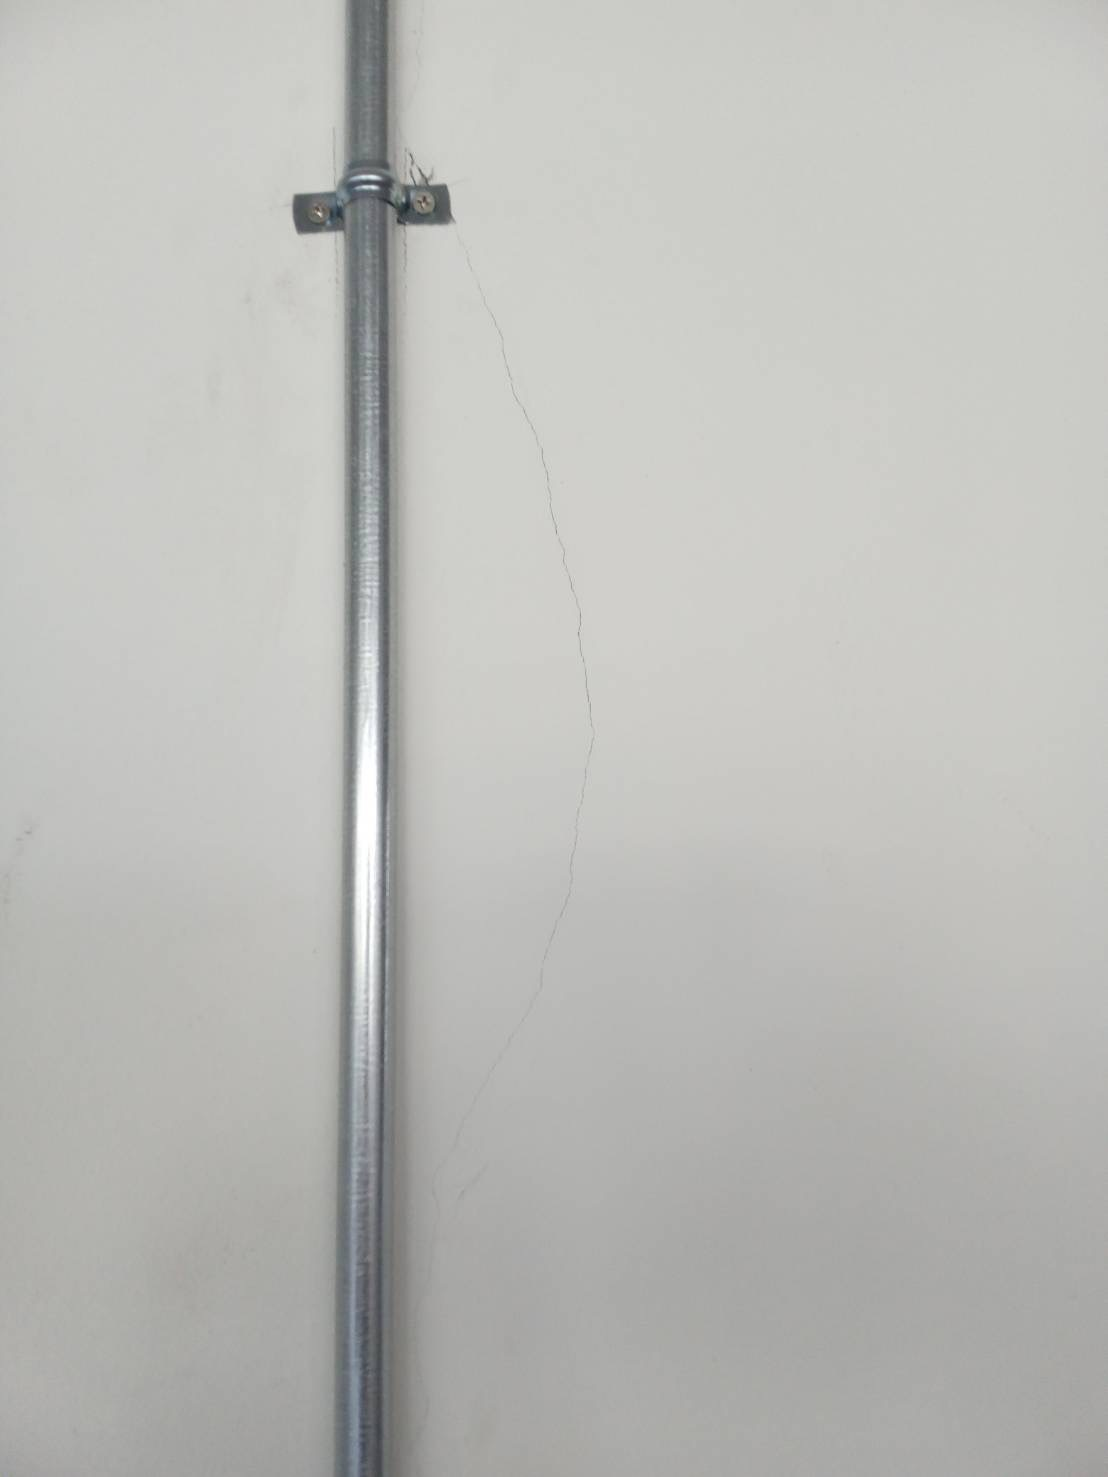Low: (317, 132, 713, 1396)
